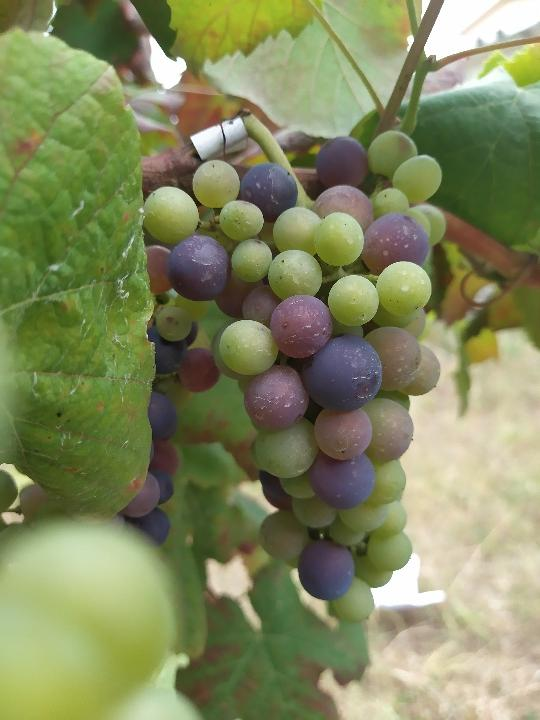grape: (132, 128, 450, 626)
